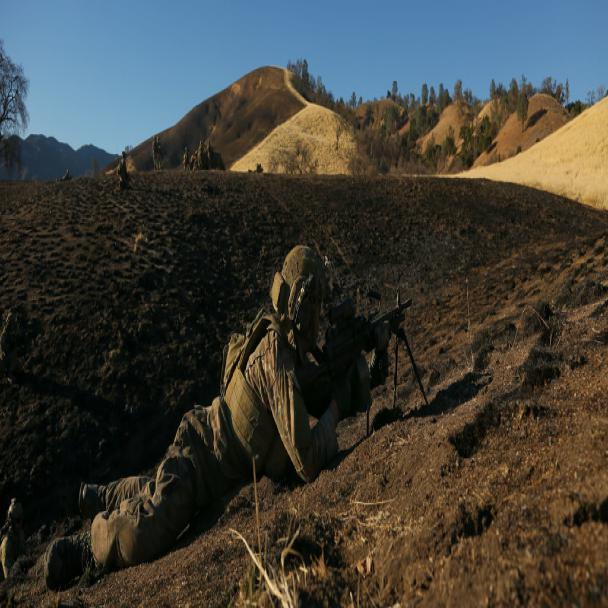Gun: (327, 277, 417, 399)
